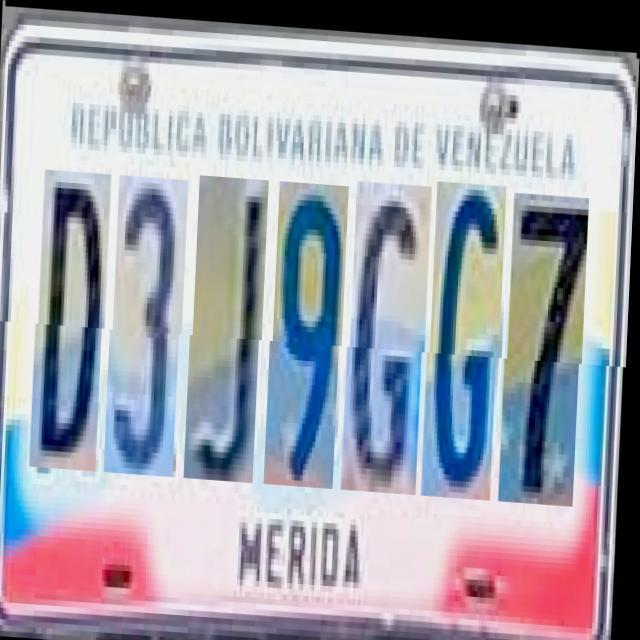3: (111, 173, 190, 474)
7: (505, 185, 590, 498)
9: (270, 176, 350, 484)
D: (36, 169, 112, 470)
G: (348, 176, 433, 488), (428, 174, 508, 493)
J: (190, 172, 270, 479)
